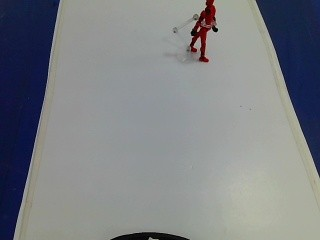pedestrian: (181, 0, 224, 78)
